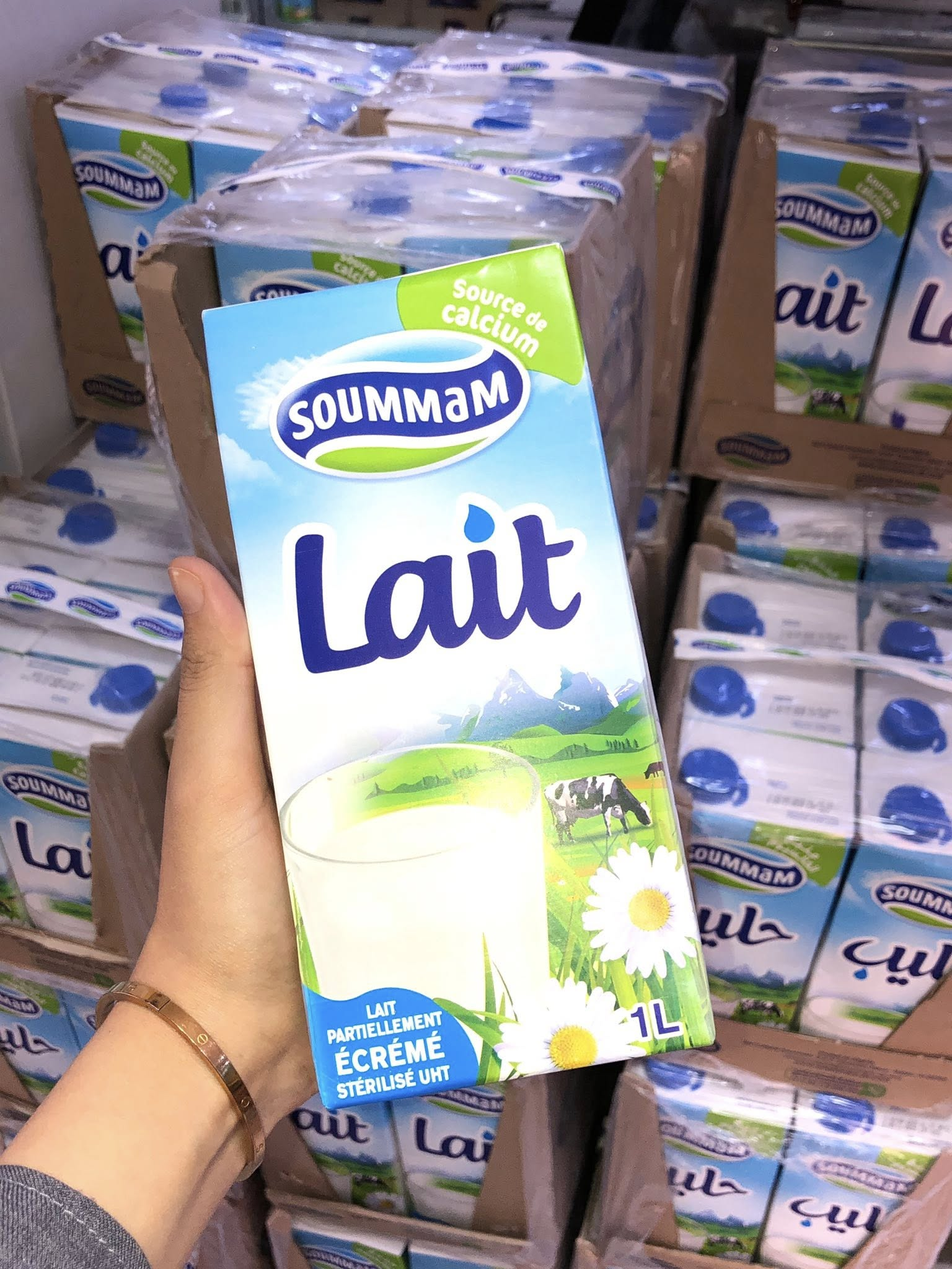soummam_milk: (185, 236, 727, 1122), (769, 131, 927, 423)
